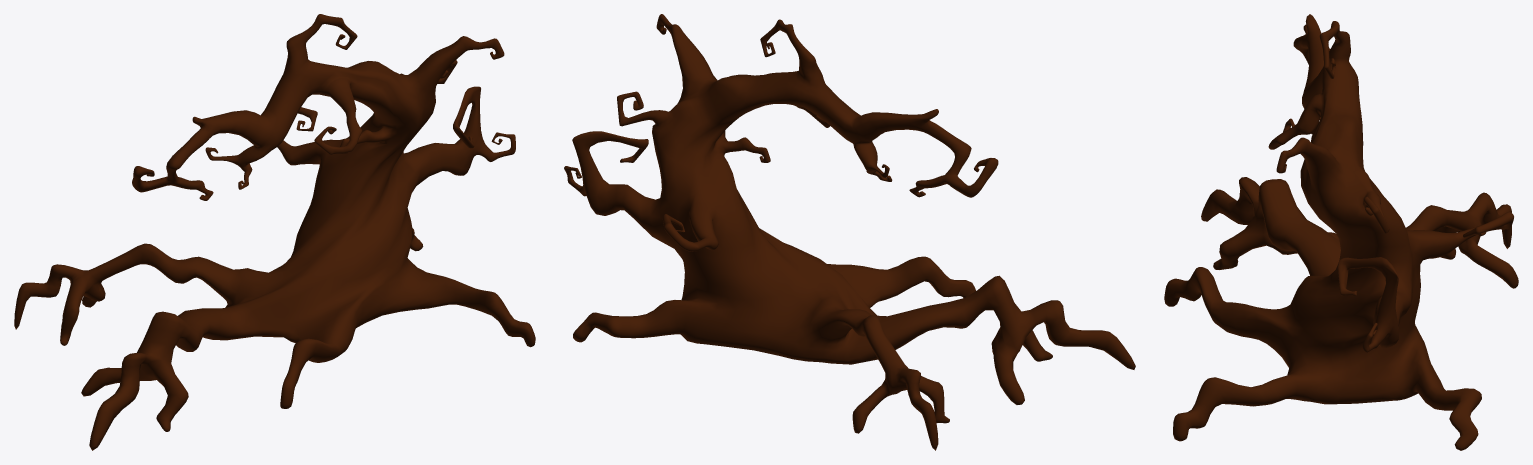
File: Tree_8k.fbx
3 views of the same model, side by side, from view 1: azimuth 30°, elevation 25°; view 2: azimuth 150°, elevation 25°; view 3: azimuth 270°, elevation 25° (orthographic). The views are drawn at different scales.
Parts seen in each view (by area): view 1: Tree 8k; view 2: Tree 8k; view 3: Tree 8k.
Boxes of the visible parts, x1,y1,x2,y2 form: Tree 8k: [14, 14, 535, 450]; Tree 8k: [564, 14, 1135, 450]; Tree 8k: [1164, 14, 1518, 450].
Size of the model in its own units: 1121 by 701 by 627.
